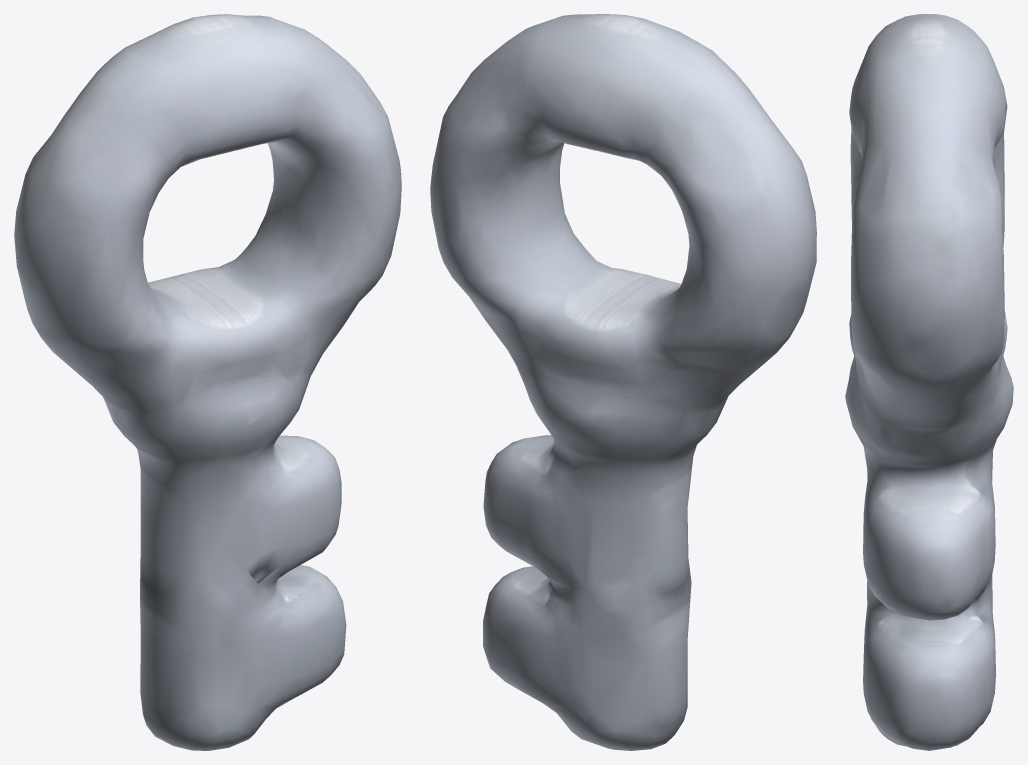
The model's file is key.glb.
3 renders of one model, left to right at view 1: azimuth 30°, elevation 25°; view 2: azimuth 150°, elevation 25°; view 3: azimuth 270°, elevation 25°, orthographic.
Visible parts, largest first — view 1: prop; view 2: prop; view 3: prop.
Part boxes in pixels (x1,y1,x2,y2): prop: (14, 14, 401, 750); prop: (430, 14, 816, 750); prop: (845, 14, 1013, 750).
Bounding box in the file's own units: 0.2826 × 0.5316 × 0.1151.
1 material, 1 textured.
